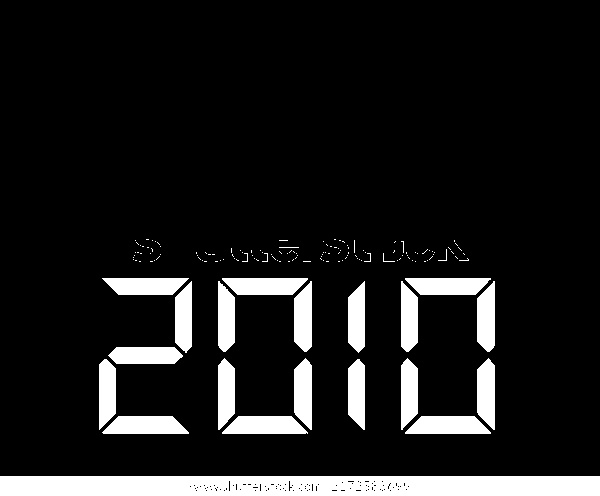one: (346, 281, 366, 430)
two: (99, 277, 192, 435)
zero: (400, 278, 496, 435), (217, 276, 312, 434)
